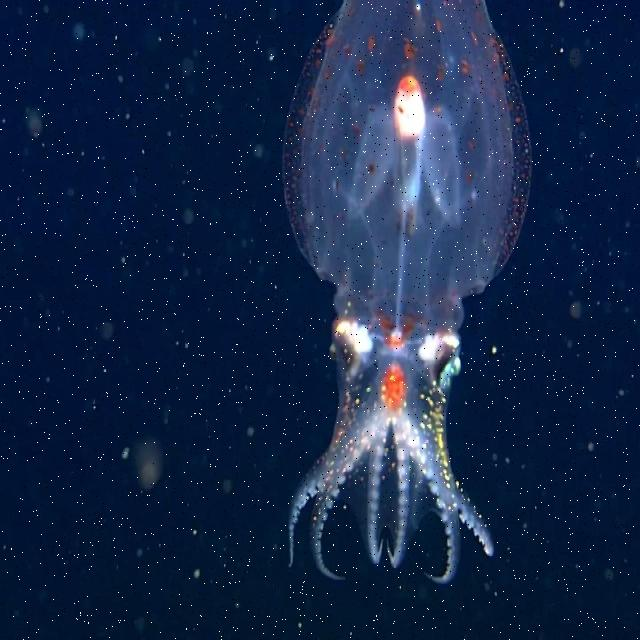reefs: (282, 0, 534, 585)
